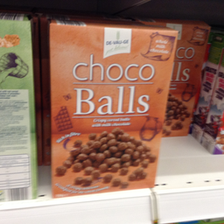cereal: (50, 14, 179, 198)
